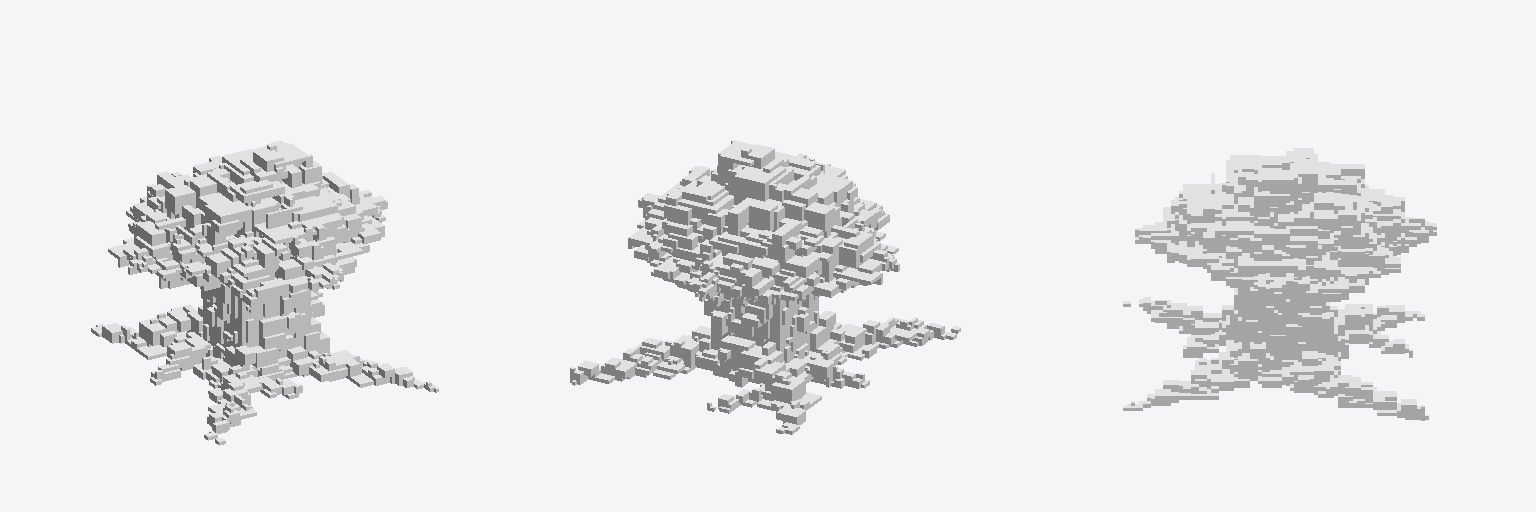
File: symboltree.obj
3 renders of one model, left to right at view 1: azimuth 30°, elevation 25°; view 2: azimuth 150°, elevation 25°; view 3: azimuth 270°, elevation 25°, orthographic.
Parts seen in each view (by area): view 1: object 1; view 2: object 1; view 3: object 1.
Boxes of the visible parts, x1,y1,x2,y2 form: object 1: [91, 140, 438, 445]; object 1: [570, 140, 960, 434]; object 1: [1123, 148, 1436, 420].
Size of the model in its own units: 7.5 by 5.8 by 7.9.